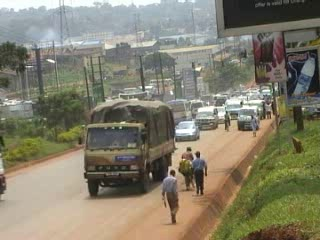Car: (173, 116, 203, 141), (212, 105, 231, 127)
